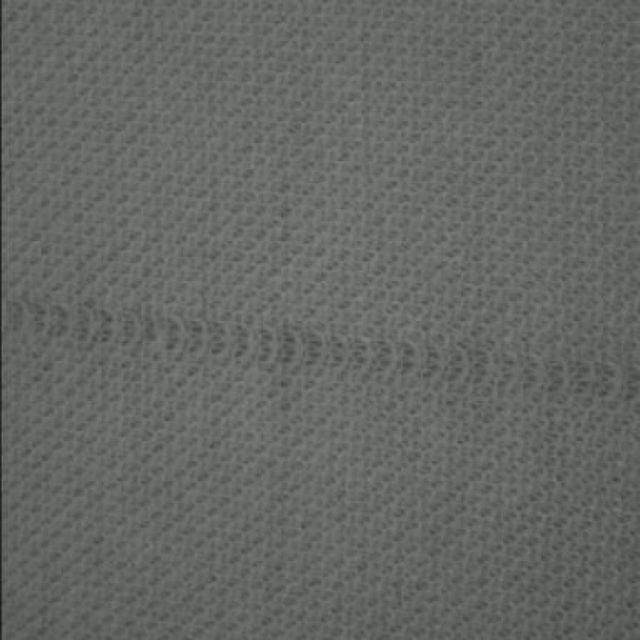Line: (5, 293, 640, 411)
